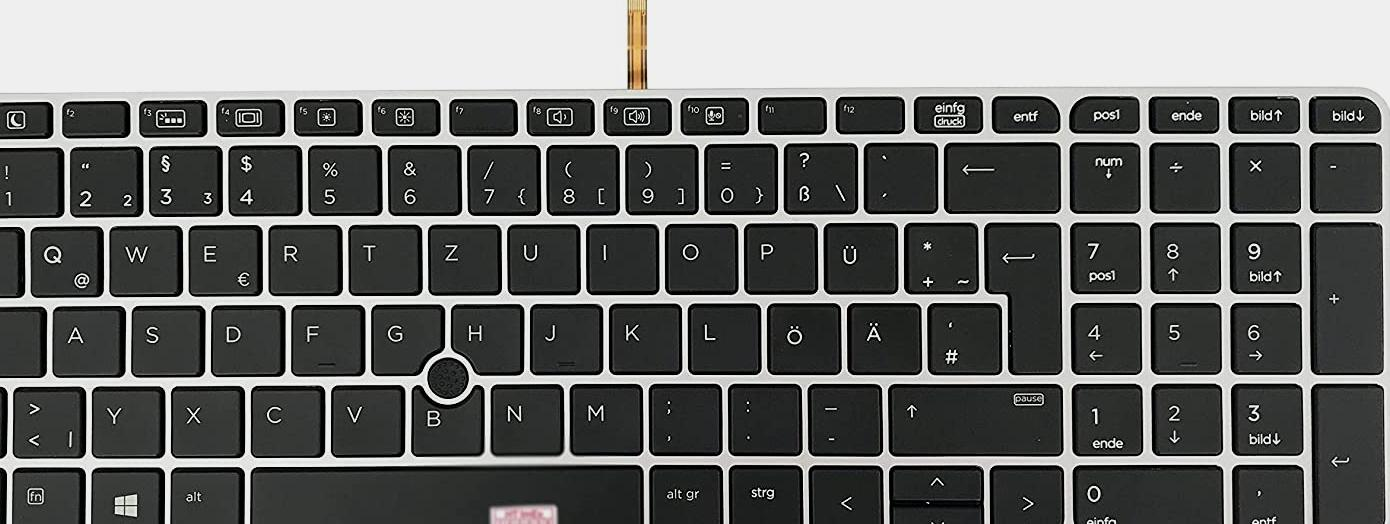0: (701, 141, 776, 214)
1: (1, 144, 60, 216)
2: (66, 144, 141, 215)
3: (145, 143, 220, 215)
4: (226, 142, 299, 215)
5: (303, 141, 379, 215)
6: (384, 141, 459, 214)
7: (464, 142, 539, 214)
8: (542, 141, 617, 214)
9: (621, 140, 696, 213)
a: (48, 303, 121, 376)
accent: (860, 137, 936, 212)
ae: (843, 298, 920, 373)
alt-left: (166, 466, 239, 524)
altgr-right: (646, 462, 722, 524)
b: (407, 380, 484, 455)
c: (246, 382, 322, 457)
caret: (1, 146, 40, 217)
comma: (644, 379, 720, 453)
d: (207, 301, 280, 376)
del: (940, 137, 1057, 211)
e: (184, 221, 259, 295)
enter: (980, 219, 1060, 374)
f: (288, 302, 361, 375)
g: (368, 301, 442, 375)
h: (446, 300, 521, 372)
hash: (924, 299, 1000, 373)
i: (582, 219, 655, 291)
j: (526, 299, 599, 373)
k: (605, 299, 678, 373)
keyboard: (1, 86, 1390, 524)
l: (685, 299, 757, 372)
less: (9, 383, 83, 458)
m: (565, 379, 640, 453)
minus: (802, 380, 880, 453)
n: (486, 380, 561, 454)
o: (661, 218, 735, 293)
oe: (763, 299, 839, 374)
p: (740, 218, 815, 292)
plus: (901, 217, 976, 292)
point: (723, 379, 800, 453)
q: (25, 222, 101, 297)
r: (264, 222, 339, 295)
s: (127, 303, 200, 376)
shift-left: (1, 383, 51, 457)
shift-lock: (1, 303, 69, 377)
shift-right: (885, 379, 1062, 454)
space: (244, 462, 642, 524)
ss: (780, 139, 856, 213)
strg-left: (1, 465, 51, 524)
strg-right: (726, 462, 801, 524)
t: (345, 220, 419, 293)
tab: (1, 223, 59, 296)
u: (503, 220, 577, 294)
ue: (819, 218, 896, 293)
v: (326, 381, 401, 456)
w: (104, 221, 179, 295)
x: (167, 383, 240, 456)
y: (87, 383, 161, 457)
z: (424, 220, 499, 294)
